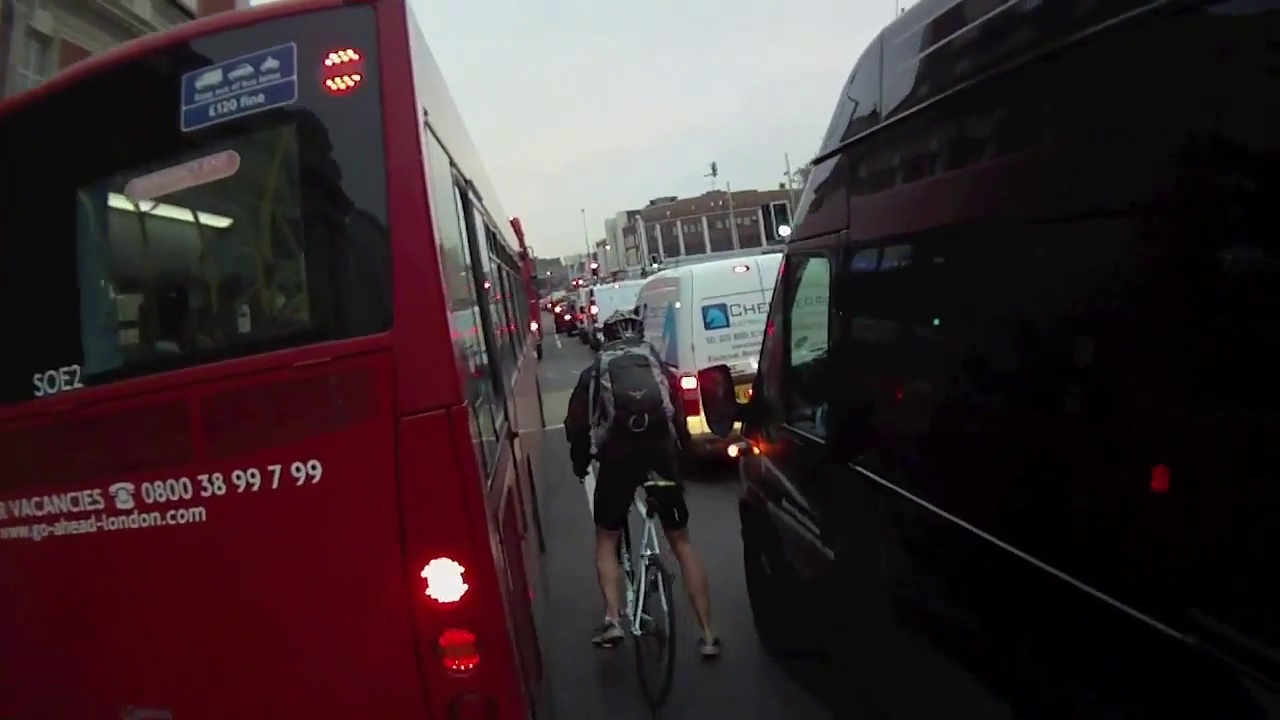cyclist_back: (563, 302, 735, 705)
